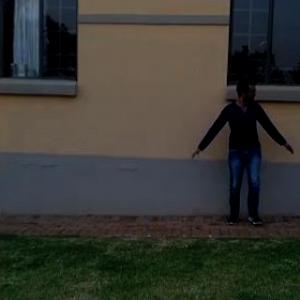land: (184, 71, 286, 242)
